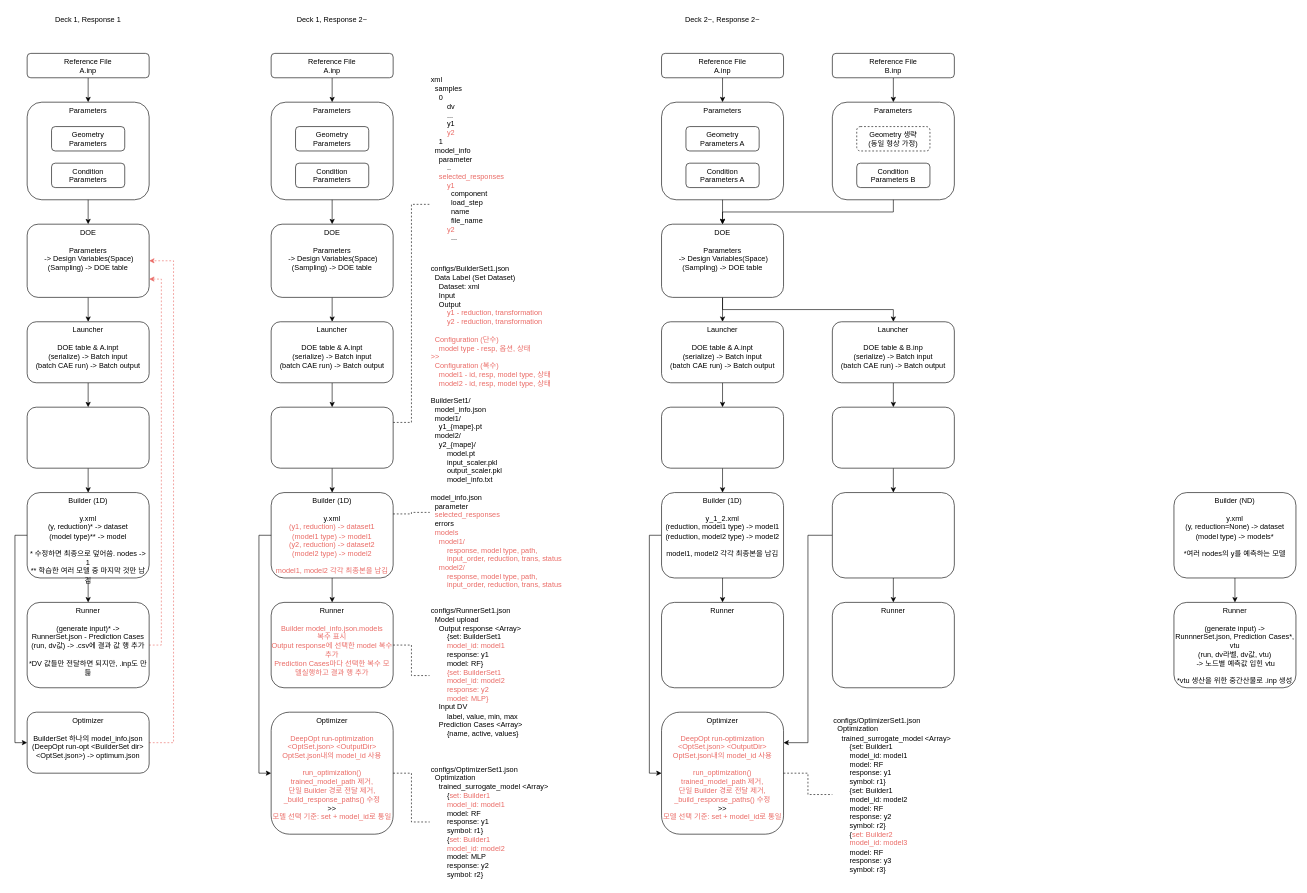
Image size: 1307x893. Some labels were removed from this diagram. Here are the shapes that lost their labels. From the top down, the centre of each, then its label:
At (88,437): "Preprocessor Batch output (preprocess y) -> y.xml".
At (332,437): "Preprocessor Batch output (preprocess y1, y2) -> y.xml".
At (722,437): "Preprocessor Batch output (preprocess y1, y2) -> y_1_2.xml".
At (893,437): "Preprocessor Batch output (preprocess y) -> y3.xml".
At (893,535): "Builder (1D) y3.xml (reduction, model3 type) -> model3".
